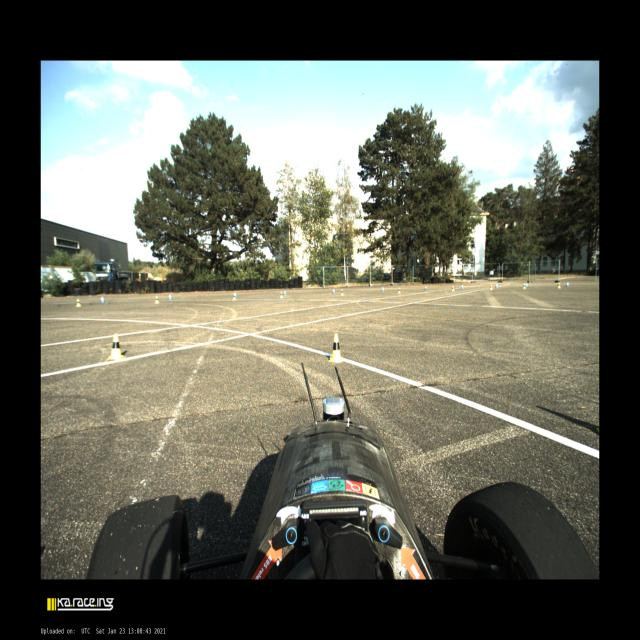blue_cone: (100, 296, 104, 303), (332, 288, 336, 294), (168, 294, 172, 300), (234, 292, 237, 298), (495, 283, 498, 288), (461, 284, 464, 289), (566, 282, 569, 286), (526, 282, 528, 288), (424, 286, 427, 290), (382, 286, 384, 292), (284, 290, 286, 295)
yellow_cone: (328, 333, 345, 363), (108, 334, 124, 360), (76, 299, 81, 307), (155, 296, 159, 304), (341, 289, 344, 296), (280, 291, 283, 298), (558, 282, 561, 288), (523, 283, 526, 289), (233, 294, 236, 300), (490, 284, 492, 290), (452, 286, 454, 292), (398, 288, 400, 294)
